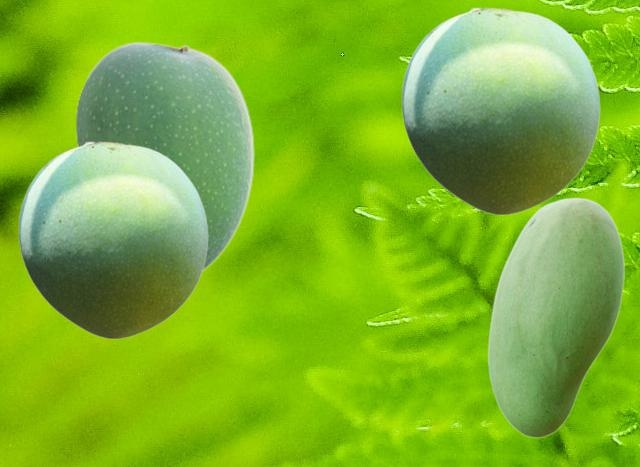green_mango: (75, 41, 254, 274), (401, 6, 599, 214), (18, 140, 207, 338), (487, 197, 623, 437)
